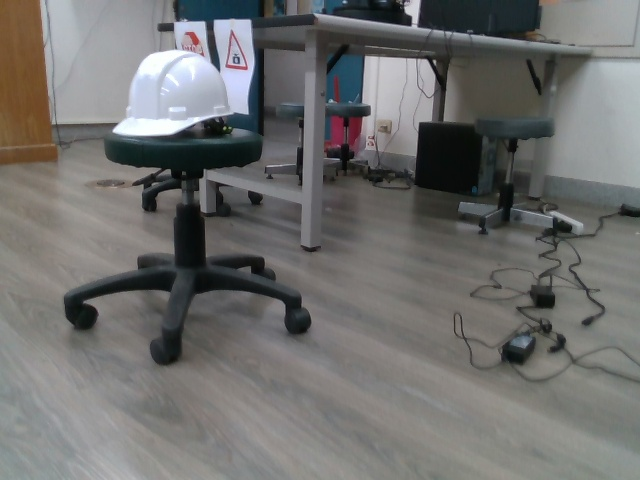helmet: (111, 48, 234, 143)
